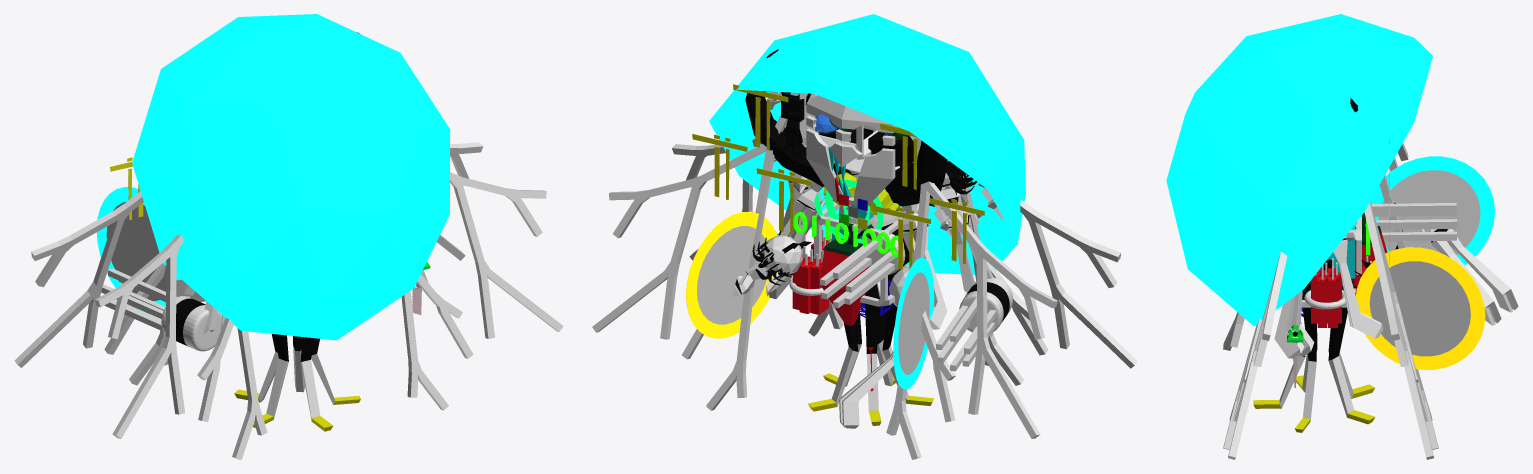
Rendered from Diftest.fbx.
3 views of the same model, side by side, from view 1: azimuth 30°, elevation 25°; view 2: azimuth 150°, elevation 25°; view 3: azimuth 270°, elevation 25° (orthographic).
Visible parts, largest first — view 1: Icosphere.001, Cube.010, Cylinder.002, Cube.014, Circle.001; view 2: Icosphere.001, Cube.010, Circle, Cube.019, Cylinder.002, Cube.035, Circle.001, Cube.014, Cube.015, Cube.003, Cube.004, Cube.016 (+19 smaller); view 3: Icosphere.001, Circle, Cube.010, Circle.001, Cylinder.002, Cube.015, Cube.013, Cube.017, Cube.004, Cube.003, Cube.011, Cube.005 (+1 smaller).
Boxes of the visible parts, <box> form: Icosphere.001: <box>132,14,450,340</box>; Cube.010: <box>14,142,563,459</box>; Cylinder.002: <box>234,334,360,431</box>; Cube.014: <box>100,268,222,351</box>; Circle.001: <box>96,187,181,314</box>; Icosphere.001: <box>709,14,1025,274</box>; Cube.010: <box>592,92,1137,459</box>; Circle: <box>686,211,777,338</box>; Cube.019: <box>806,95,895,206</box>; Cylinder.002: <box>808,269,933,425</box>; Cube.035: <box>745,49,946,204</box>; Circle.001: <box>893,257,934,389</box>; Cube.014: <box>936,277,1012,371</box>; Cube.015: <box>820,222,909,308</box>; Cube.003: <box>766,162,947,329</box>; Cube.004: <box>777,159,993,295</box>; Cube.016: <box>789,246,828,314</box>; Icosphere.001: <box>1166,14,1432,326</box>; Circle: <box>1356,247,1485,369</box>; Cube.010: <box>1223,143,1438,459</box>; Circle.001: <box>1370,156,1494,265</box>; Cylinder.002: <box>1253,259,1374,432</box>; Cube.015: <box>1355,203,1457,241</box>; Cube.013: <box>1394,203,1518,325</box>; Cube.017: <box>1304,258,1345,327</box>; Cube.004: <box>1274,290,1314,358</box>; Cube.003: <box>1333,236,1383,338</box>; Cube.011: <box>1352,212,1387,288</box>; Cube.005: <box>1301,216,1361,307</box>.
Bounding box in the file's own units: 324 × 257 × 219.
